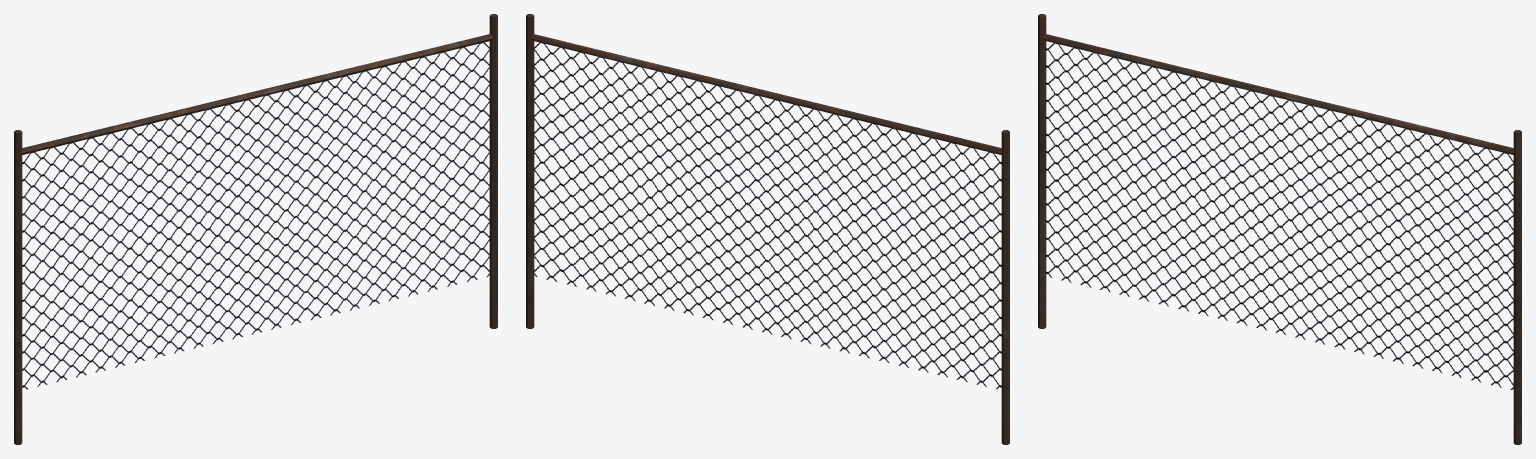
File: metalfence_both_sides_topbar.glb
3 views of the same model, side by side, from view 1: azimuth 30°, elevation 25°; view 2: azimuth 150°, elevation 25°; view 3: azimuth 330°, elevation 25° (orthographic).
Visible parts, largest first — view 1: metalfence_both_sides_topbar; view 2: metalfence_both_sides_topbar; view 3: metalfence_both_sides_topbar.
Part boxes in pixels (<box>): metalfence_both_sides_topbar: <box>14,14,497,444</box>; metalfence_both_sides_topbar: <box>526,14,1009,444</box>; metalfence_both_sides_topbar: <box>1038,14,1521,444</box>.
Bounding box in the file's own units: 2.7 × 1.67 × 0.04.
Materials: 2 (2 with a texture image).
